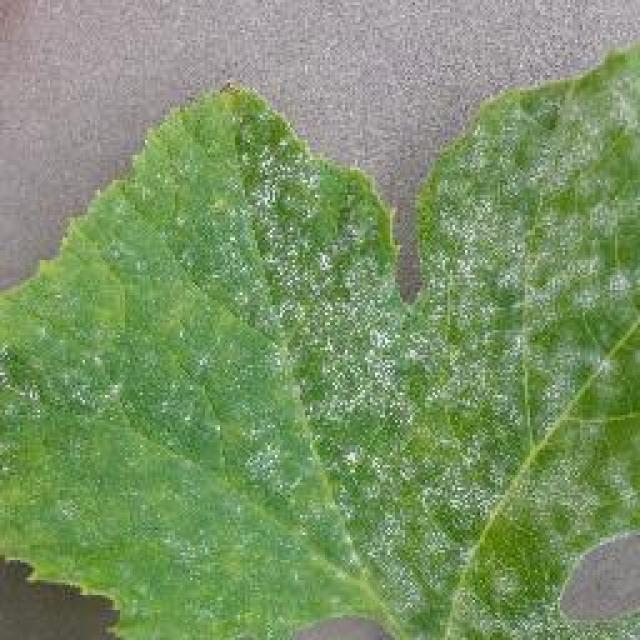Squ_Powdery_mildew: (231, 222, 603, 625)
